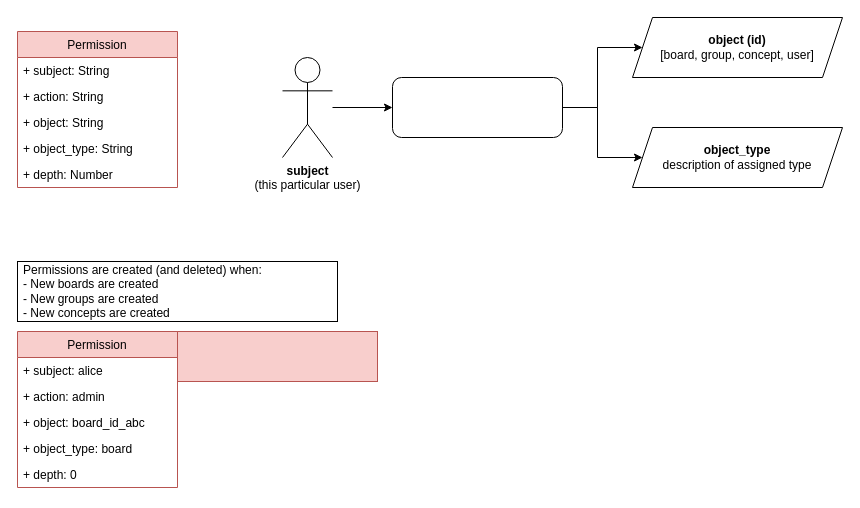
This 860x508 diagram has some shape labels left out. The shapes that lost their labels are listed below. From the top down, each one's centre as x and y in pixels, then its label:
At [477,107]: "action read / edit / delete / admin".
At [277,356]: "This permission allows alice full control (all actions) on board board_id_abc".
